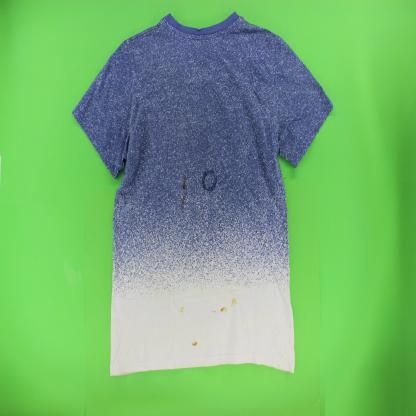stain: (201, 168, 219, 193), (180, 192, 186, 214), (230, 297, 239, 308), (181, 175, 187, 191), (219, 305, 228, 314), (191, 340, 199, 347), (209, 309, 218, 314), (179, 306, 185, 313)
